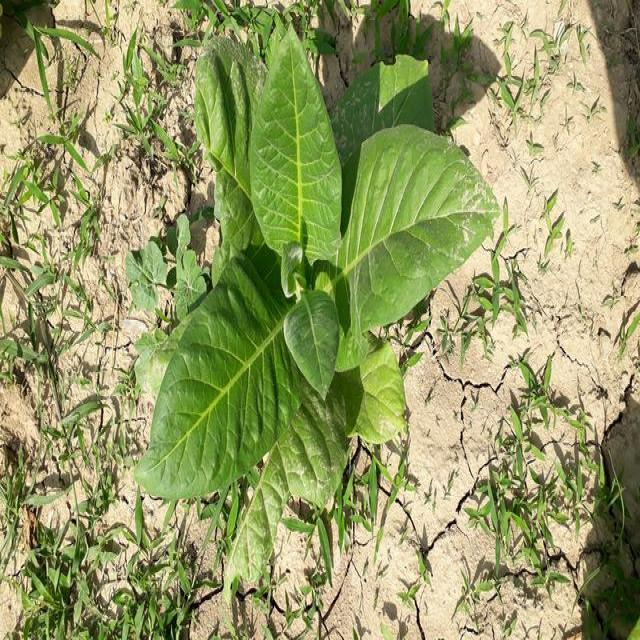crop: (161, 46, 494, 574)
